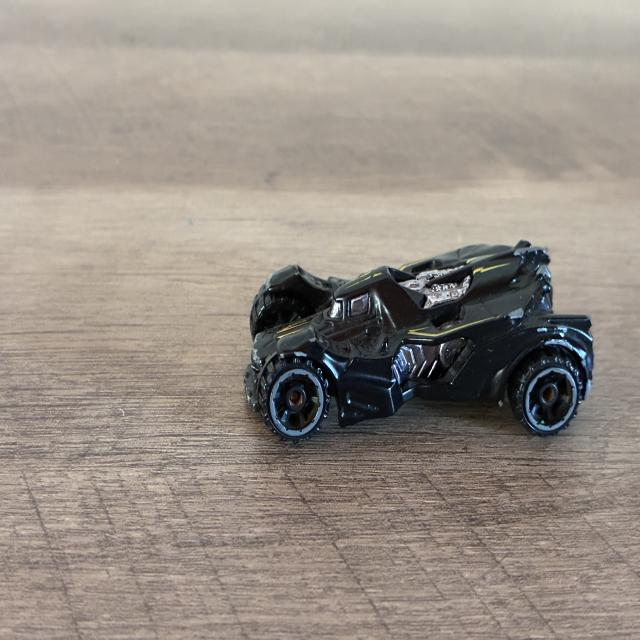cars: (244, 240, 593, 442)
